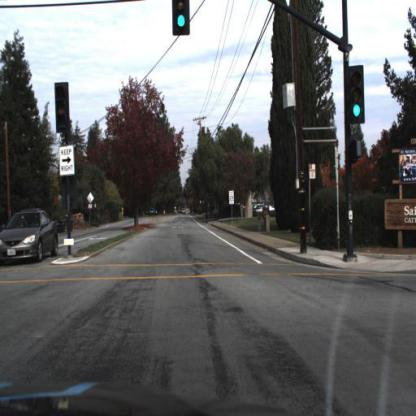car: (1, 207, 61, 267), (251, 200, 280, 220)
